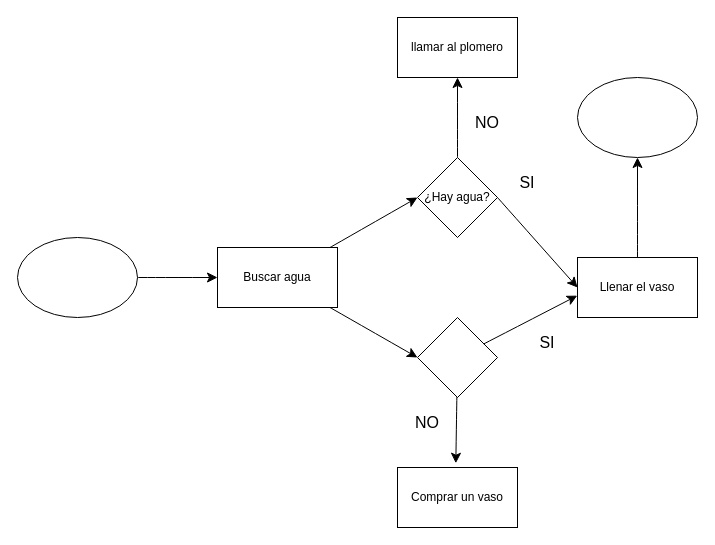
Some shapes in this 715 by 545 pixel diagram are drawn without their labels. The shapes that lost their labels are listed below. From the top down, each one's centre as x and y in pixels, then its label:
At (637,117): "beber aguita".
At (77,277): "tengo sed".
At (457,357): "¿Tenes vaso?".
